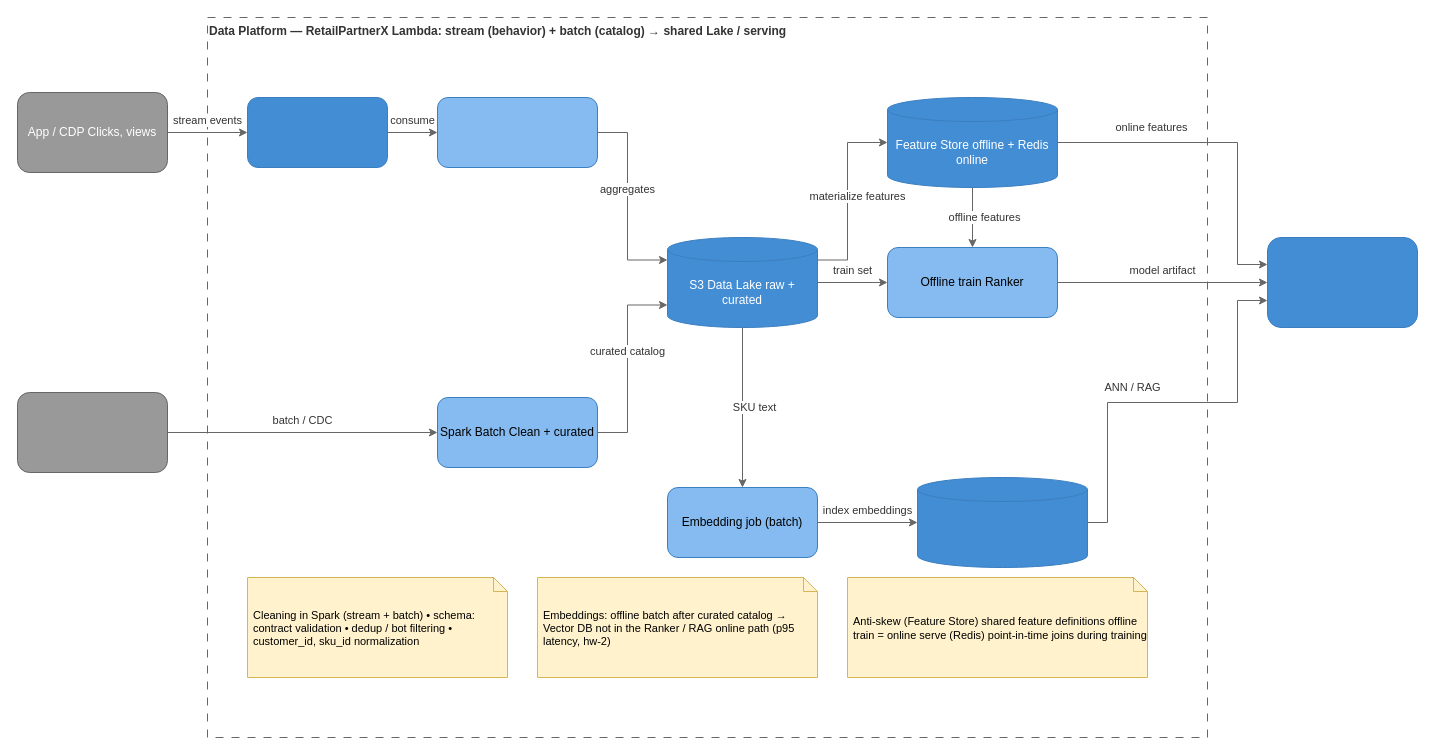
Image size: 1435x755. Some labels were removed from this diagram. The centre of each missing label's shape, as x and y in pixels:
"AI Service Ranker + RAG" goes at (x=1342, y=282).
"Kafka Events stream" goes at (x=317, y=132).
"PIM / ERP SKU catalog" goes at (x=92, y=432).
"Spark Streaming Clean + aggregates" goes at (x=517, y=132).
"Vector DB Product KB" goes at (x=1002, y=522).
